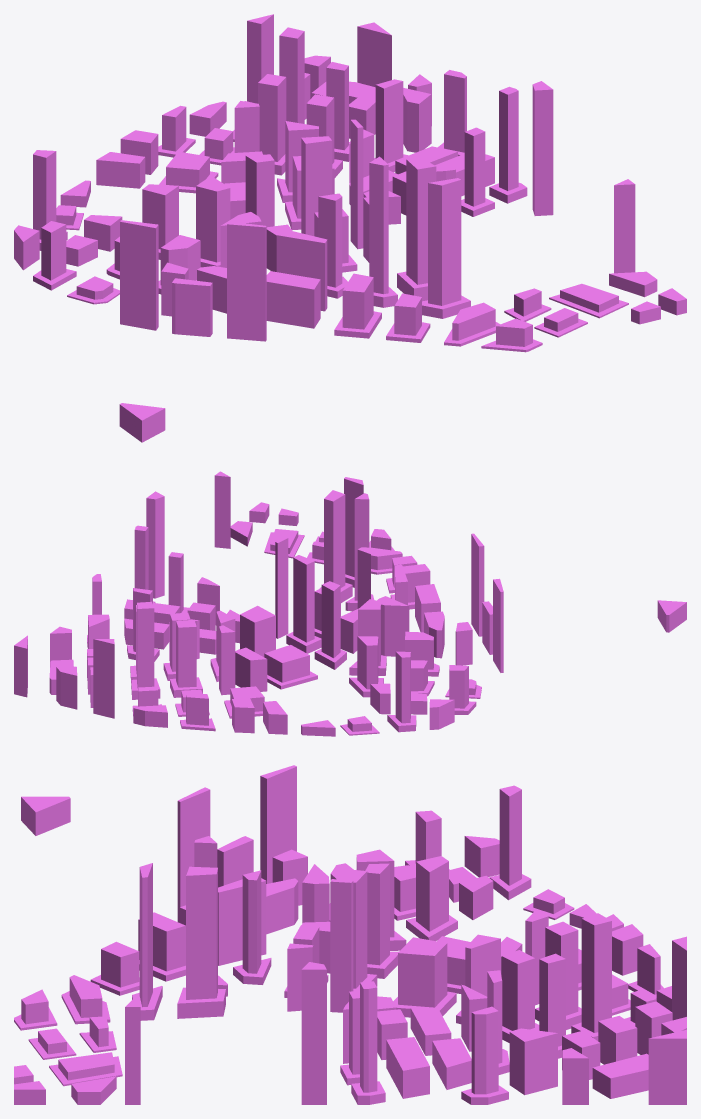
Rendered from buildings_00234.obj.
The picture shows the model from 3 angles, top to bottom: view 1: azimuth 30°, elevation 25°; view 2: azimuth 150°, elevation 25°; view 3: azimuth 270°, elevation 25°; orthographic projection. The views are drawn at different scales.
Size of the model in its own units: 1460 by 358 by 1460.
